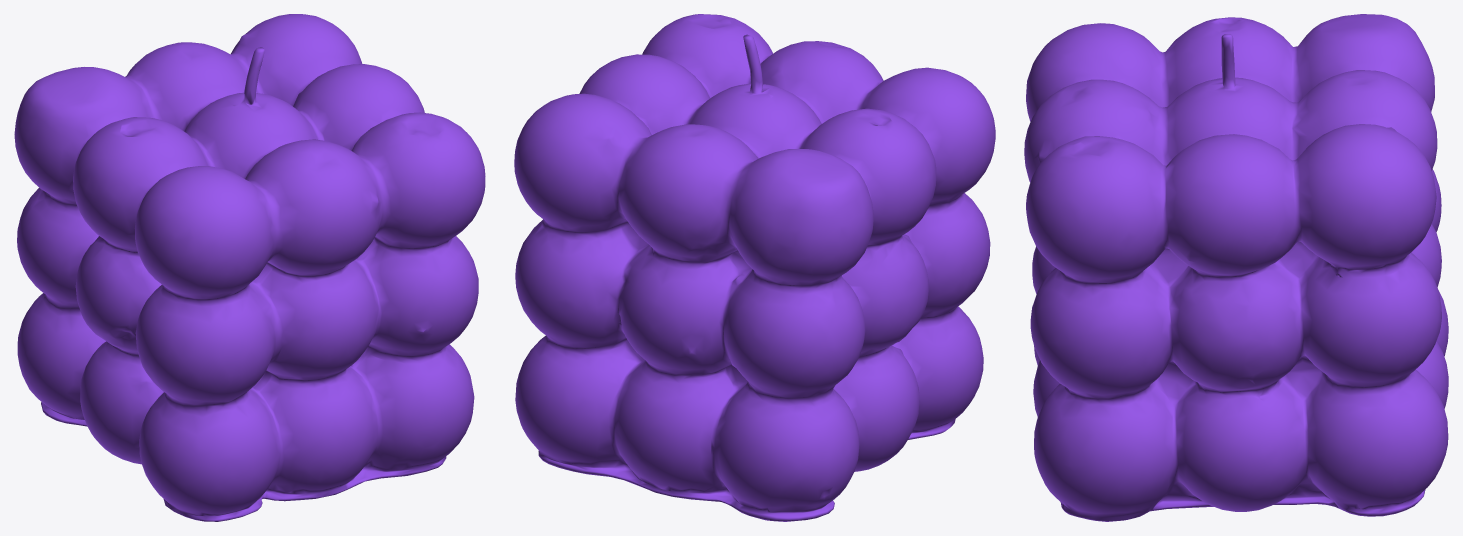
Rendered from vela4.glb.
3 renders of one model, left to right at view 1: azimuth 30°, elevation 25°; view 2: azimuth 150°, elevation 25°; view 3: azimuth 270°, elevation 25°, orthographic. The views are drawn at different scales.
Parts seen in each view (by area): view 1: bolitas; view 2: bolitas; view 3: bolitas.
Part boxes in pixels (x1=…): bolitas: x1=14, y1=14, x2=485, y2=521; bolitas: x1=514, y1=14, x2=995, y2=521; bolitas: x1=1024, y1=14, x2=1448, y2=521.
Bounding box in the file's own units: 3.1 × 3.49 × 3.15.
